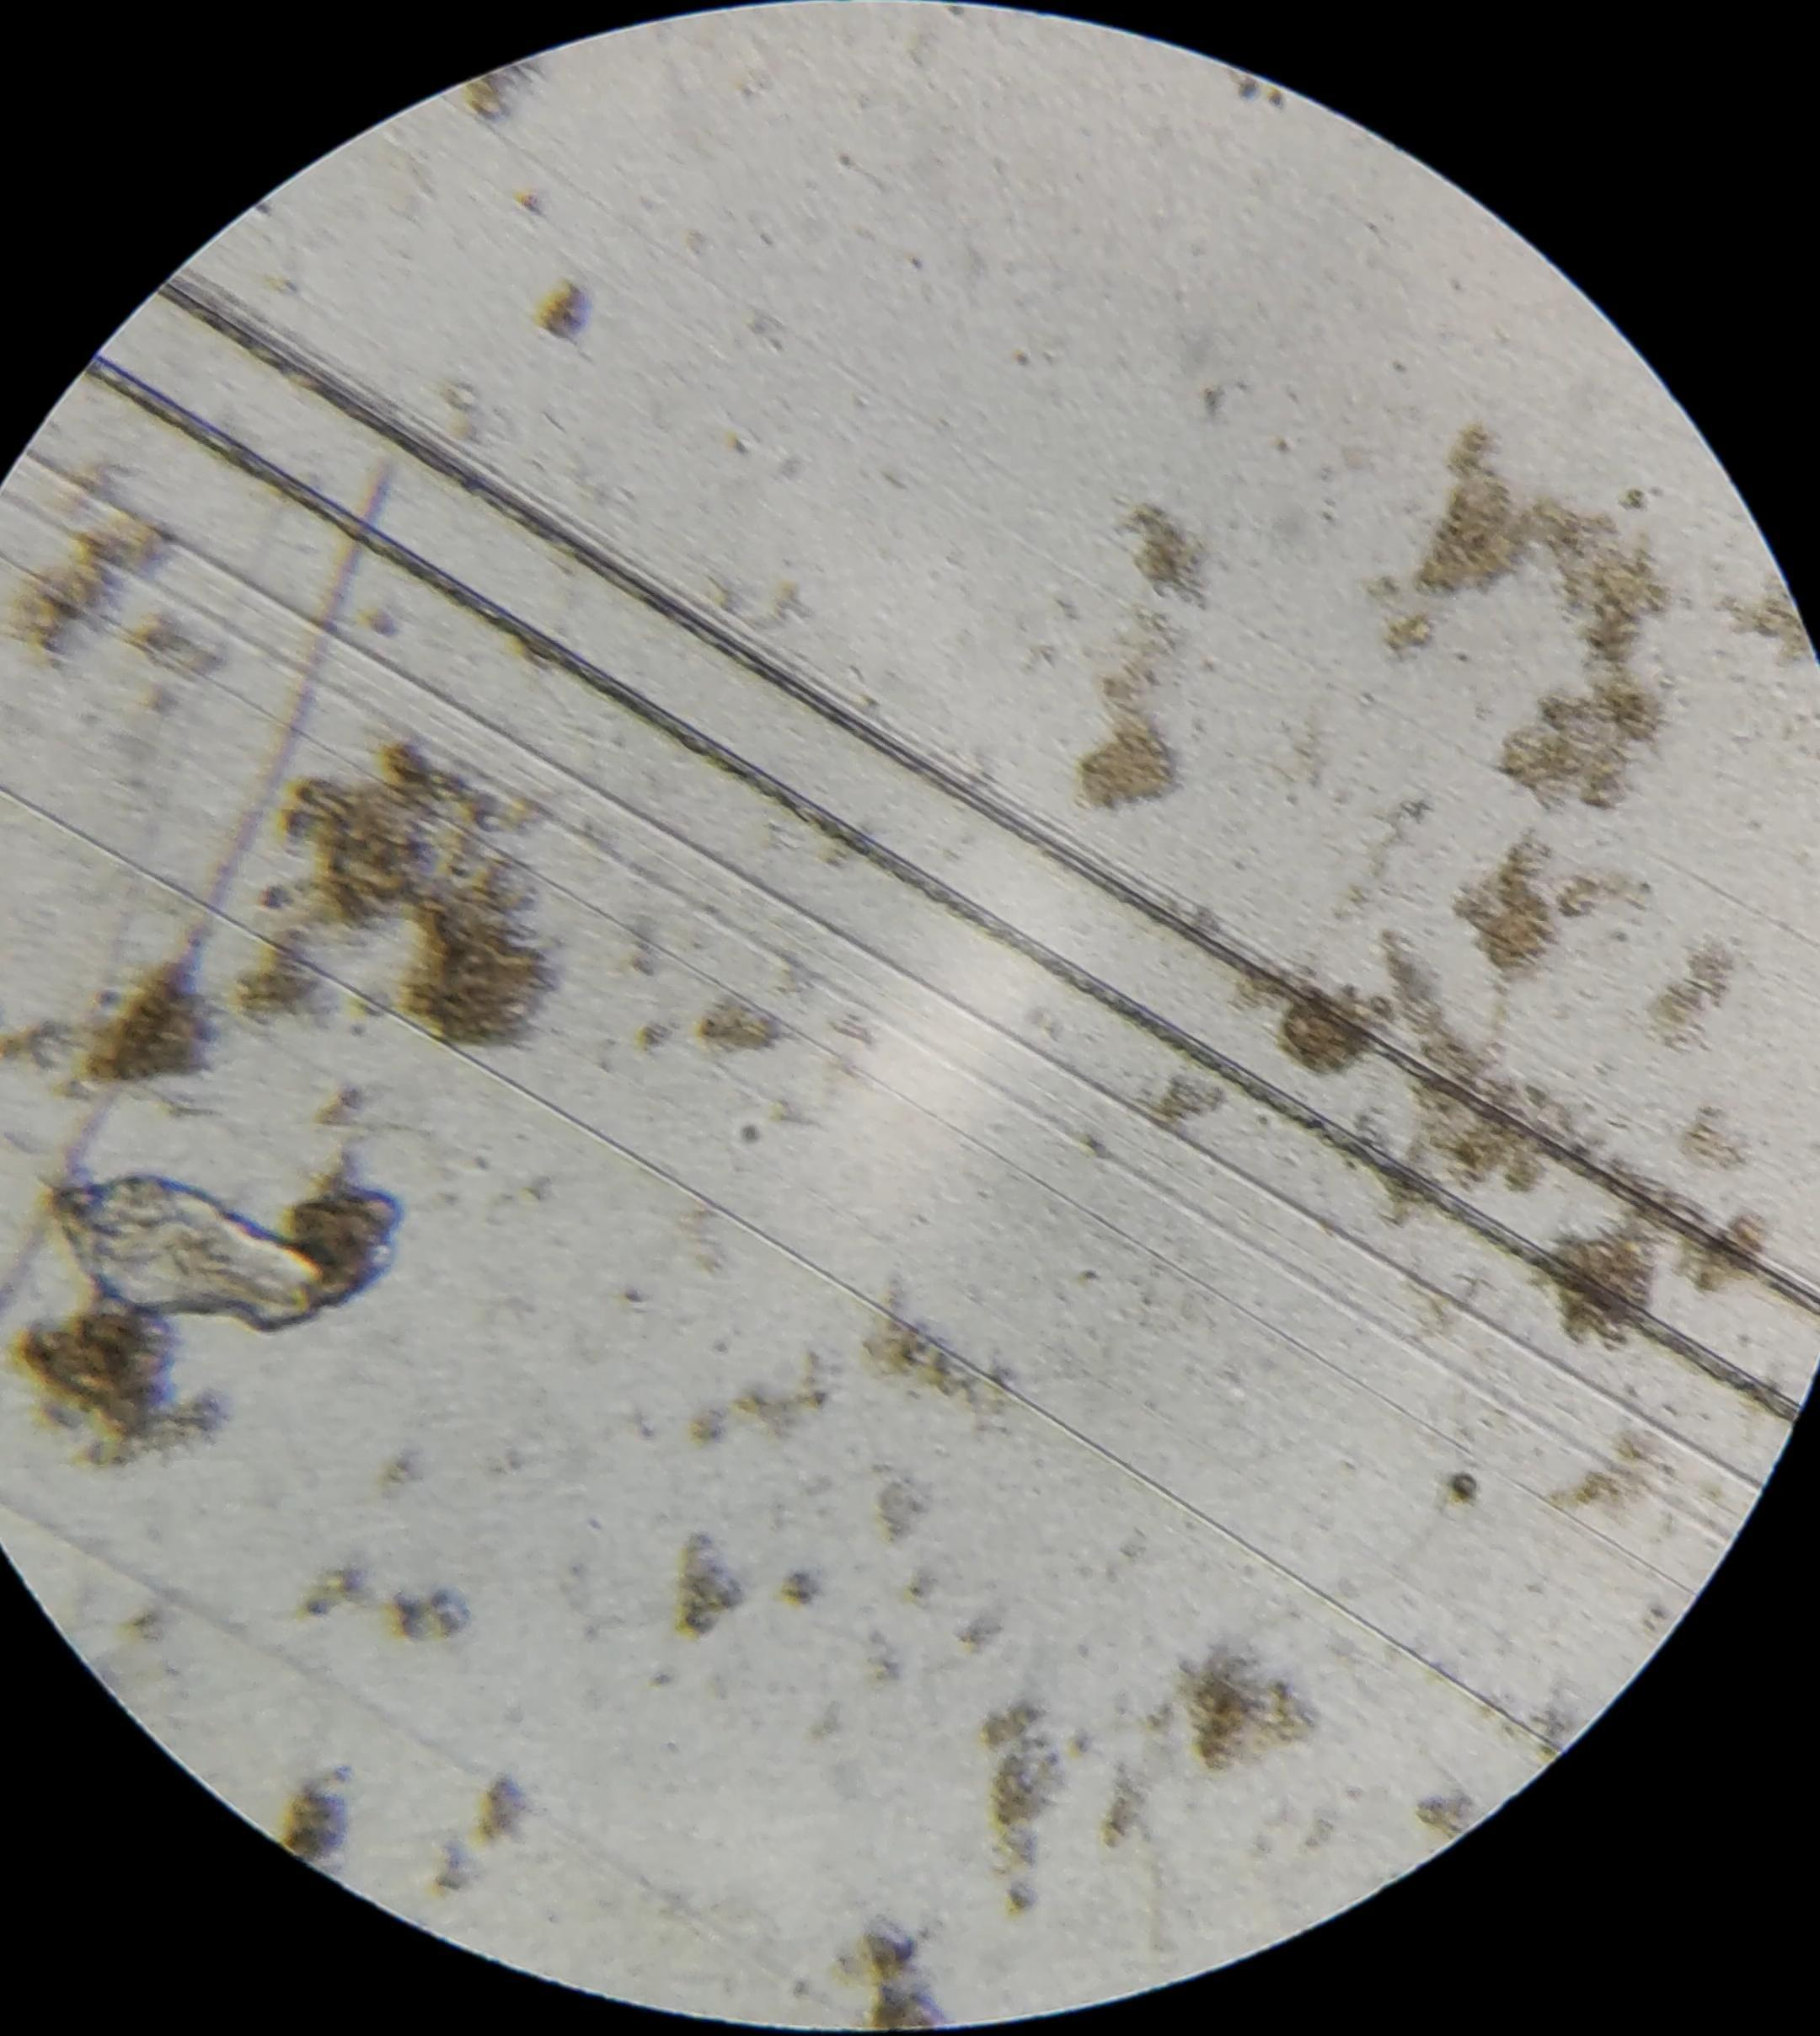Do: (37, 1159, 402, 1330)
